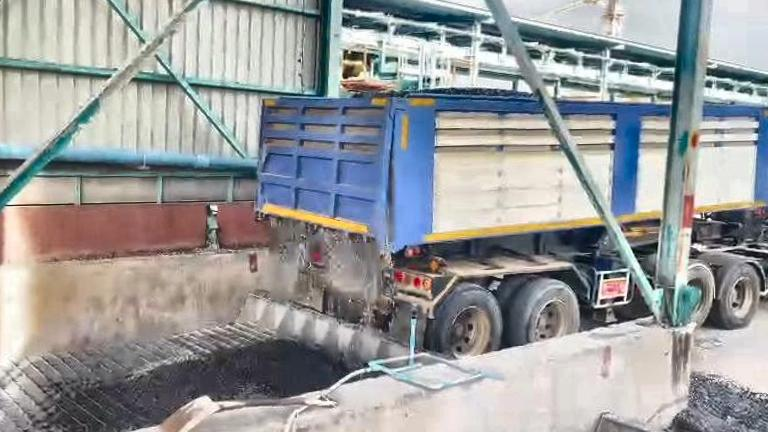gravel: (276, 221, 394, 328), (674, 373, 768, 432)
